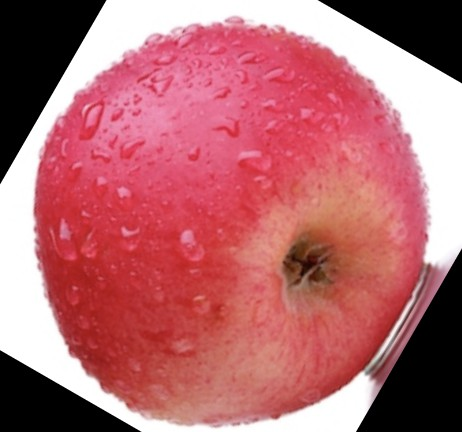fresh_apple: (36, 22, 431, 425)
